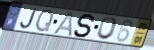6: (115, 19, 135, 44)
A: (51, 11, 74, 38)
J: (19, 8, 39, 30)
O: (95, 17, 119, 41)
Q: (34, 9, 55, 33)
S: (72, 13, 97, 39)
